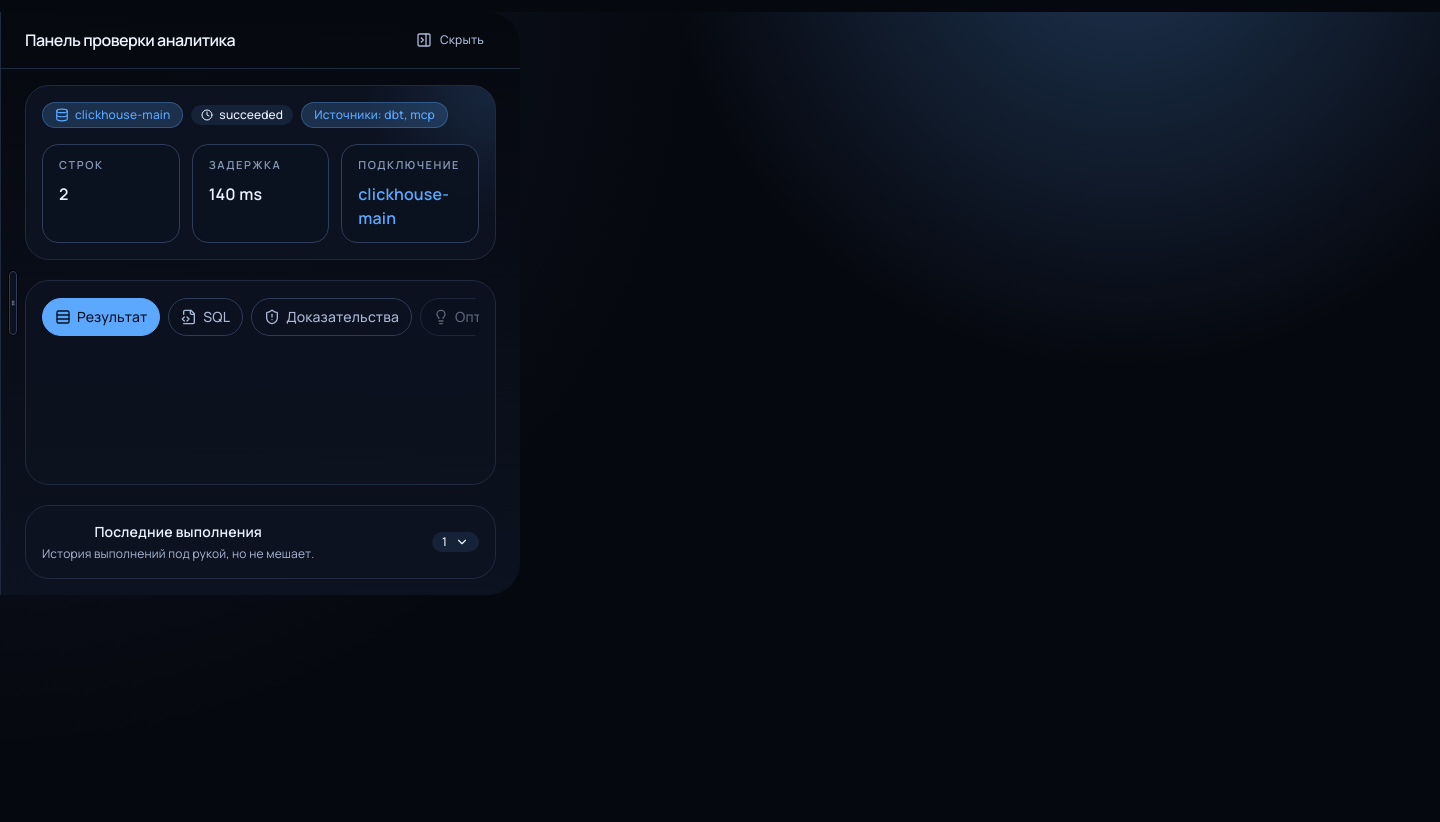
Scenario: ResultSurface › keeps recent executions hidden until expanded
The image size is (1440, 822).
Expected: the text "select * from metrics" is not shown
Click the button "Последние выполнения".
click(260, 542)  # box [42, 522, 479, 562]
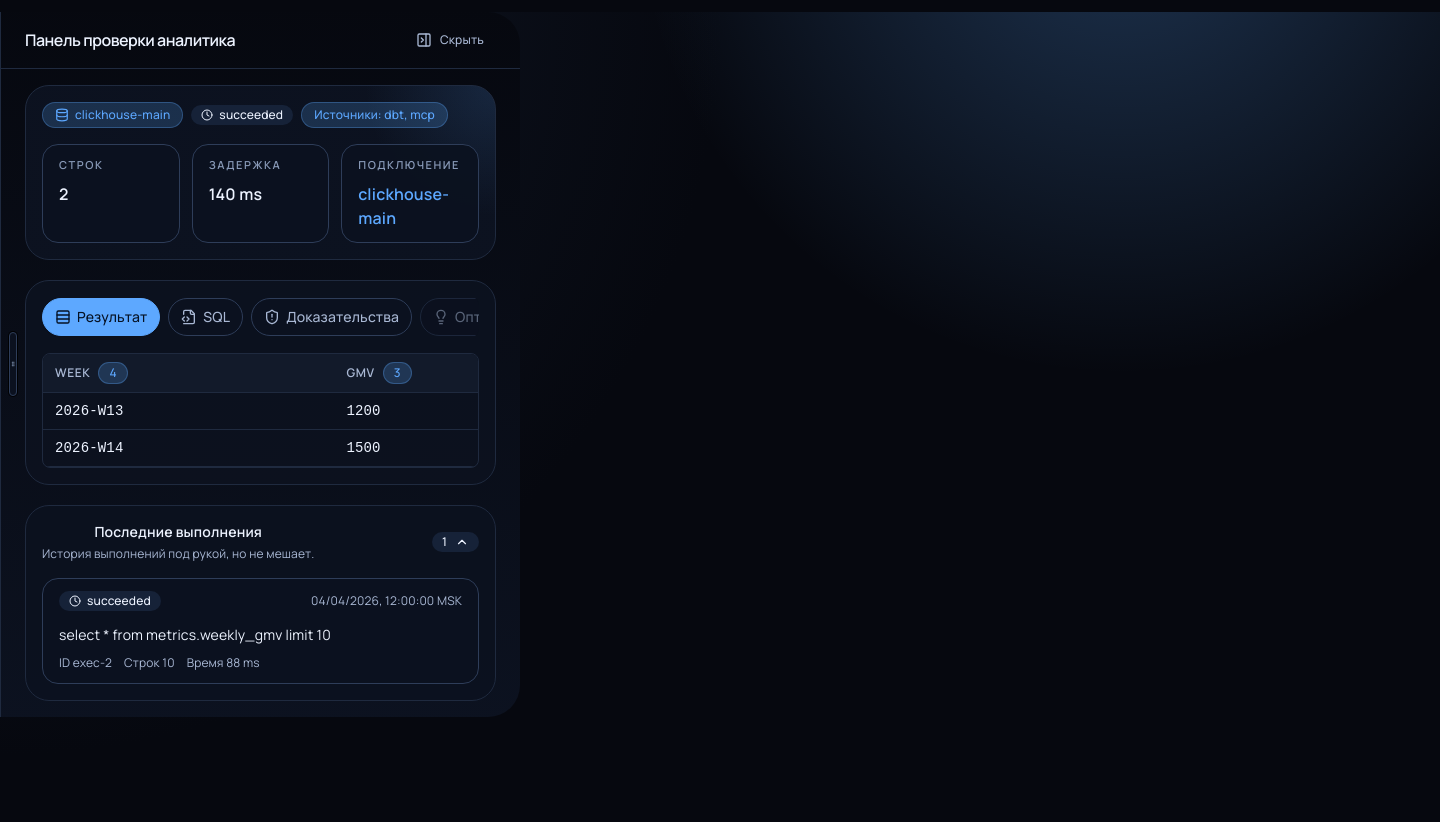
Expected: the text "select * from metrics.weekly_gmv limit 10" is shown, [59, 624, 331, 644]
